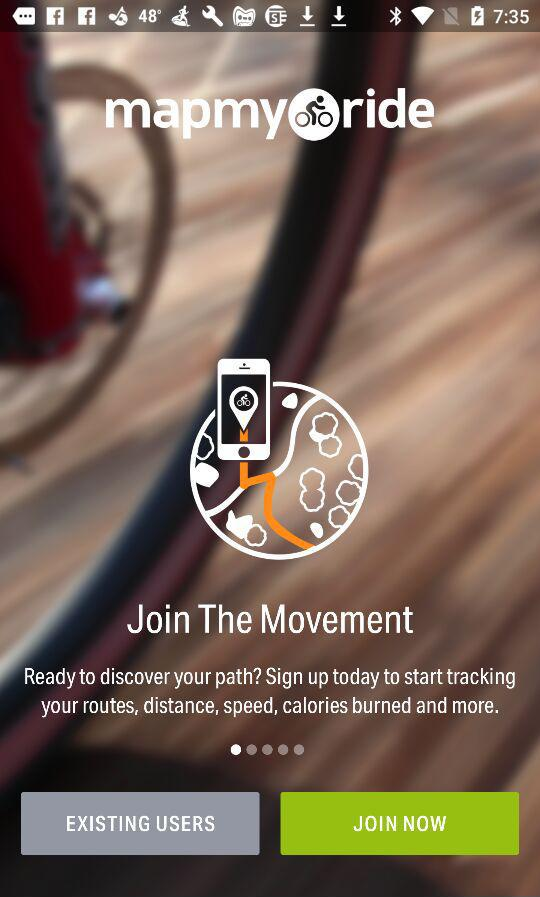BackgroundImage: (1, 33, 540, 897)
Image: (185, 357, 370, 561), (105, 87, 434, 142)
PageIndicator: (230, 743, 306, 757)
Text: (25, 667, 516, 718), (127, 603, 414, 635)
TextButton: (280, 791, 520, 856), (21, 791, 261, 856)
UpperTaskBar: (1, 1, 540, 33)
